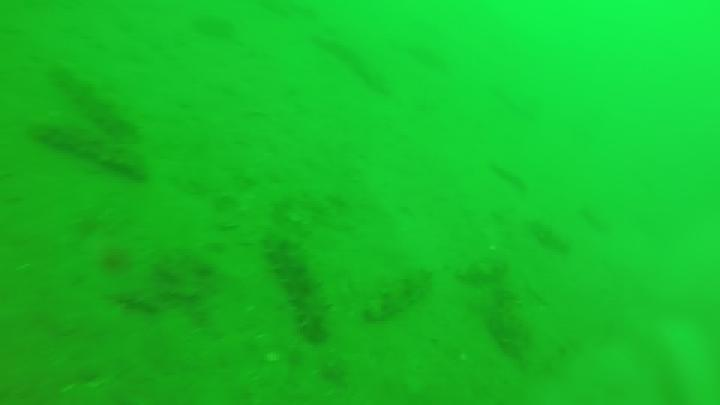holothurian: (265, 233, 330, 343), (50, 58, 137, 136), (37, 119, 143, 176), (364, 254, 431, 321), (488, 291, 530, 366)
